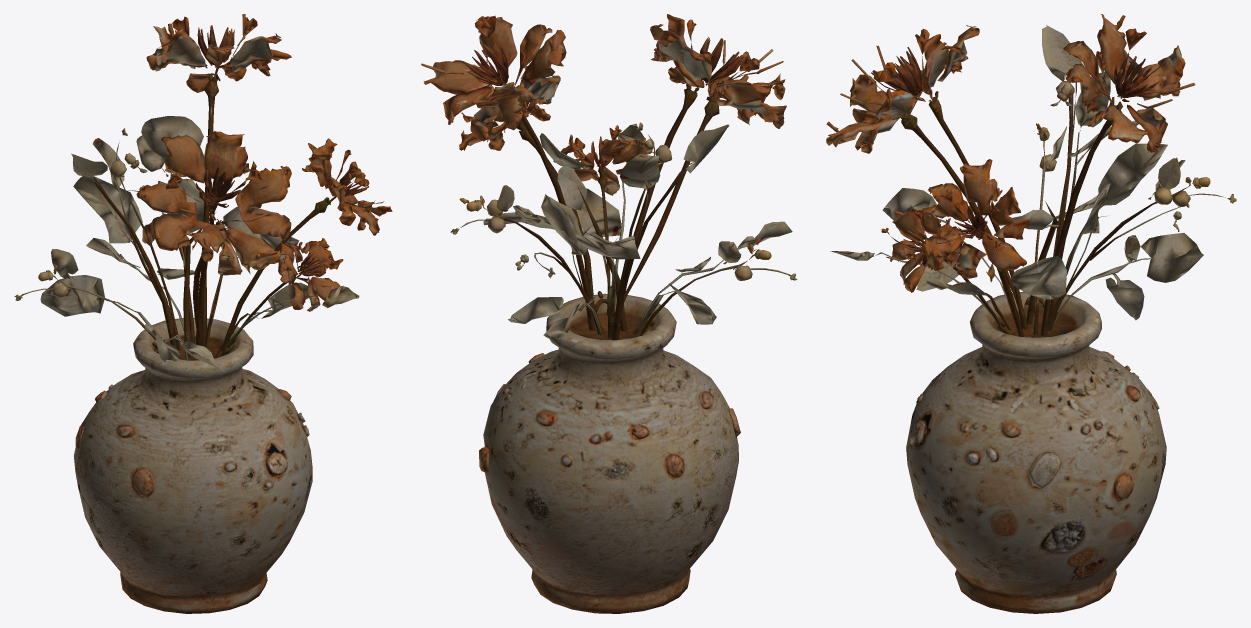
The model's file is prop-dried-flowers-v01.glb.
3 renders of one model, left to right at view 1: azimuth 30°, elevation 25°; view 2: azimuth 150°, elevation 25°; view 3: azimuth 270°, elevation 25°, orthographic. The views are drawn at different scales.
Parts seen in each view (by area): view 1: tripo_node_e6f6a049-c367-47e5-a6da-b45be4a38459; view 2: tripo_node_e6f6a049-c367-47e5-a6da-b45be4a38459; view 3: tripo_node_e6f6a049-c367-47e5-a6da-b45be4a38459.
Part boxes in pixels (left/top/right/bottom): tripo_node_e6f6a049-c367-47e5-a6da-b45be4a38459: left=14, top=14, right=392, bottom=613; tripo_node_e6f6a049-c367-47e5-a6da-b45be4a38459: left=421, top=14, right=797, bottom=613; tripo_node_e6f6a049-c367-47e5-a6da-b45be4a38459: left=826, top=14, right=1236, bottom=613.
Size of the model in its own units: 0.4359 by 0.657 by 0.423.
Materials: 1 (1 with a texture image).
